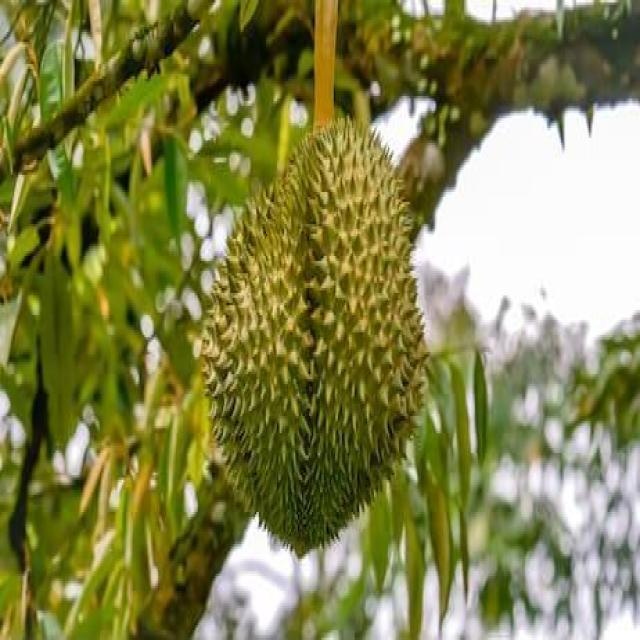immature: (201, 102, 429, 559)
